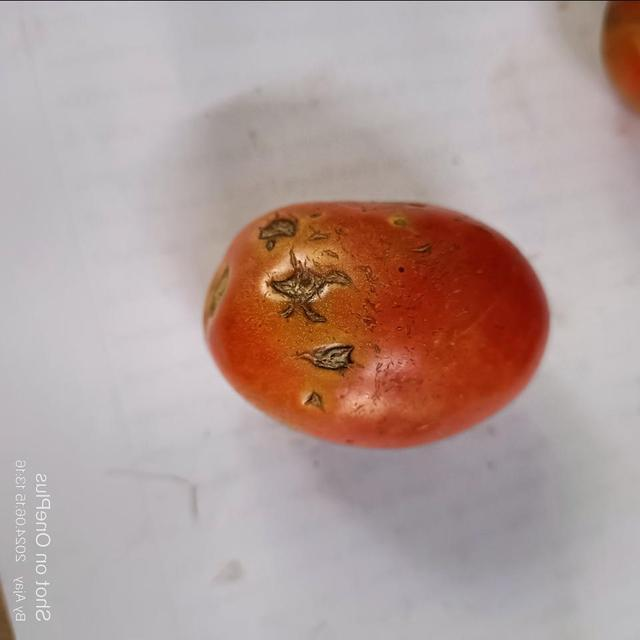Bacterial Spot Fruit: (19, 18, 218, 265)
